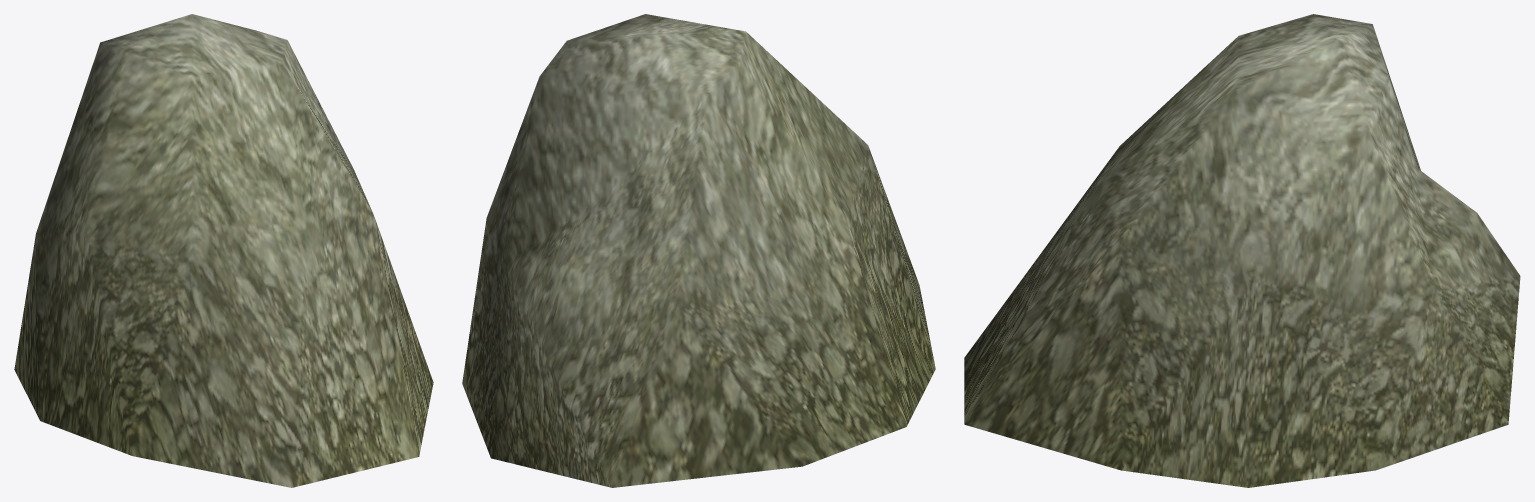
File: elwynncliffrock01.glb
The picture shows the model from 3 angles, left to right: view 1: azimuth 30°, elevation 25°; view 2: azimuth 150°, elevation 25°; view 3: azimuth 270°, elevation 25°; orthographic projection. The views are drawn at different scales.
Size of the model in its own units: 15.87 by 13.57 by 19.25.
1 material, 1 textured.
